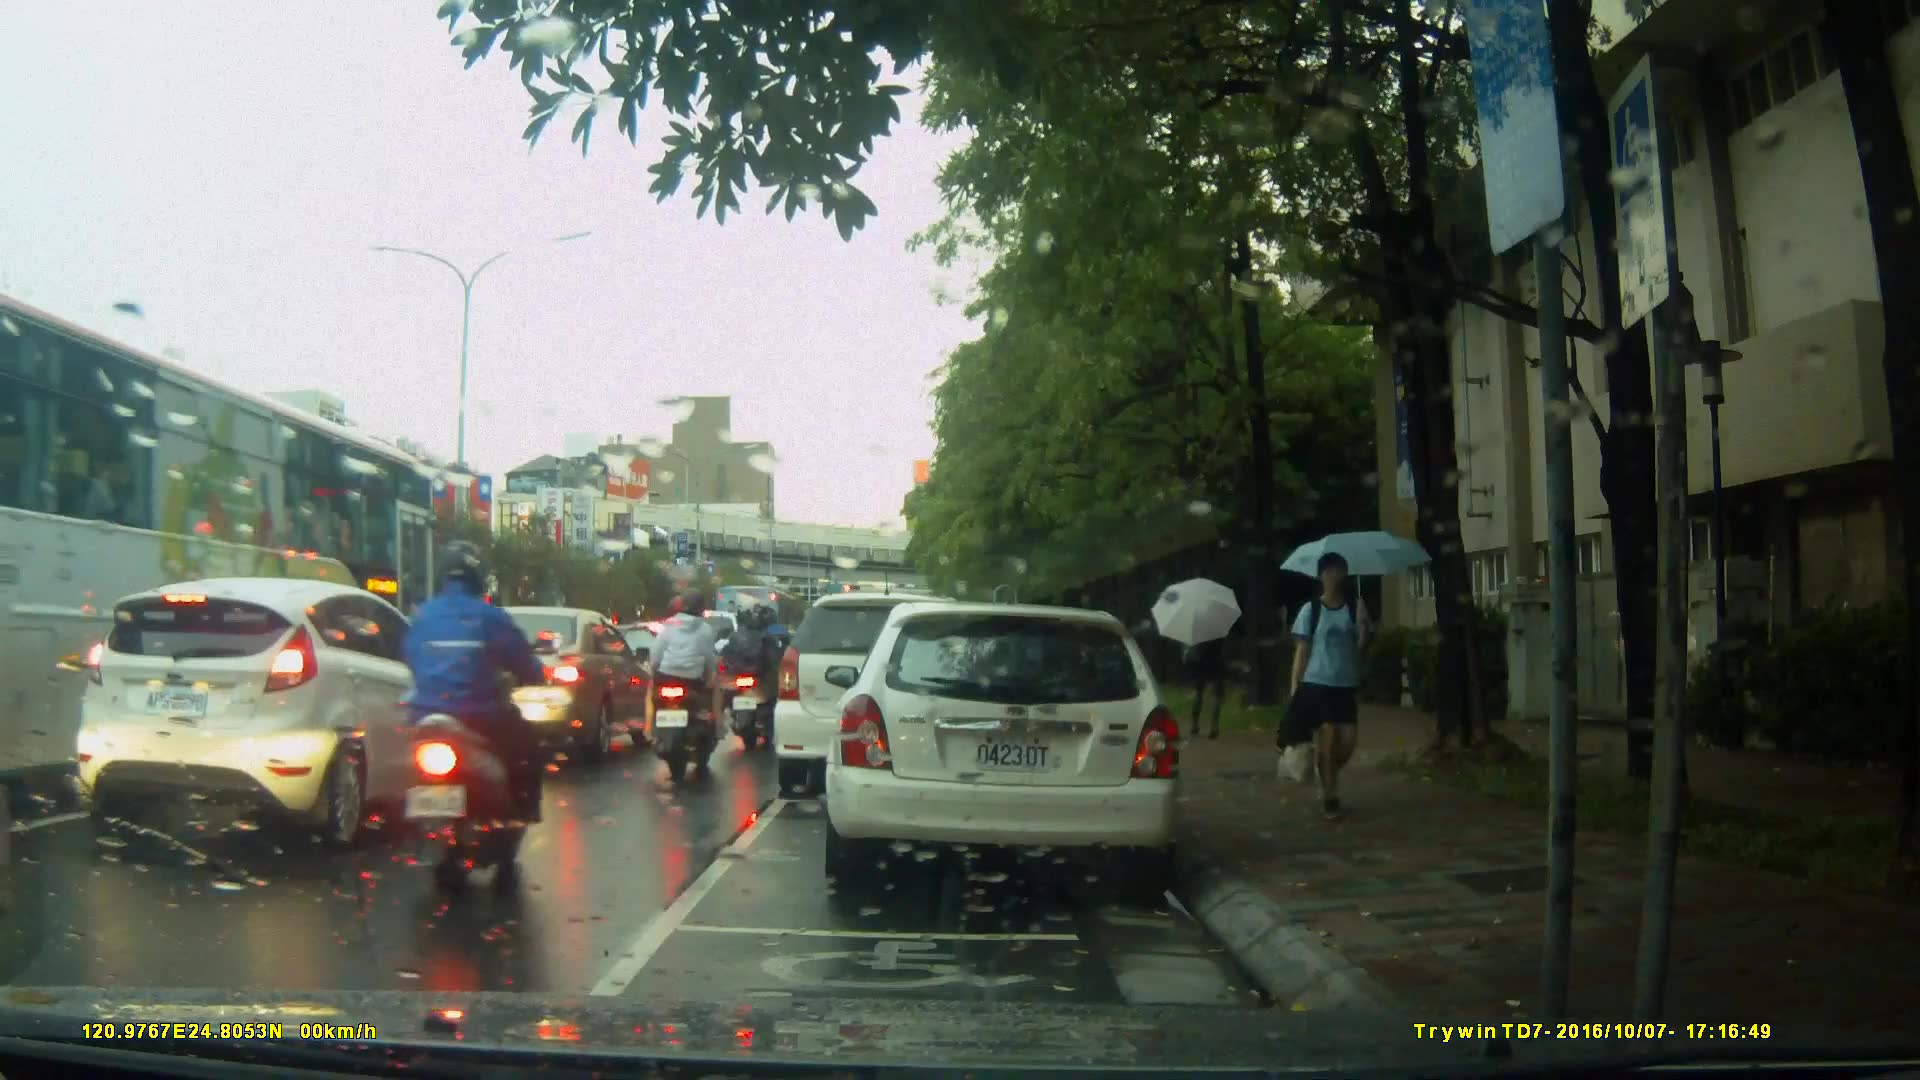pedestrian: (1268, 550, 1383, 824), (1177, 604, 1226, 734)
rider: (384, 541, 553, 890), (651, 591, 728, 787), (743, 602, 800, 743), (723, 600, 768, 753)
vehicle: (1, 288, 453, 802), (74, 575, 481, 860), (835, 594, 1194, 898), (776, 590, 1026, 784), (396, 604, 650, 761), (604, 619, 729, 714)
